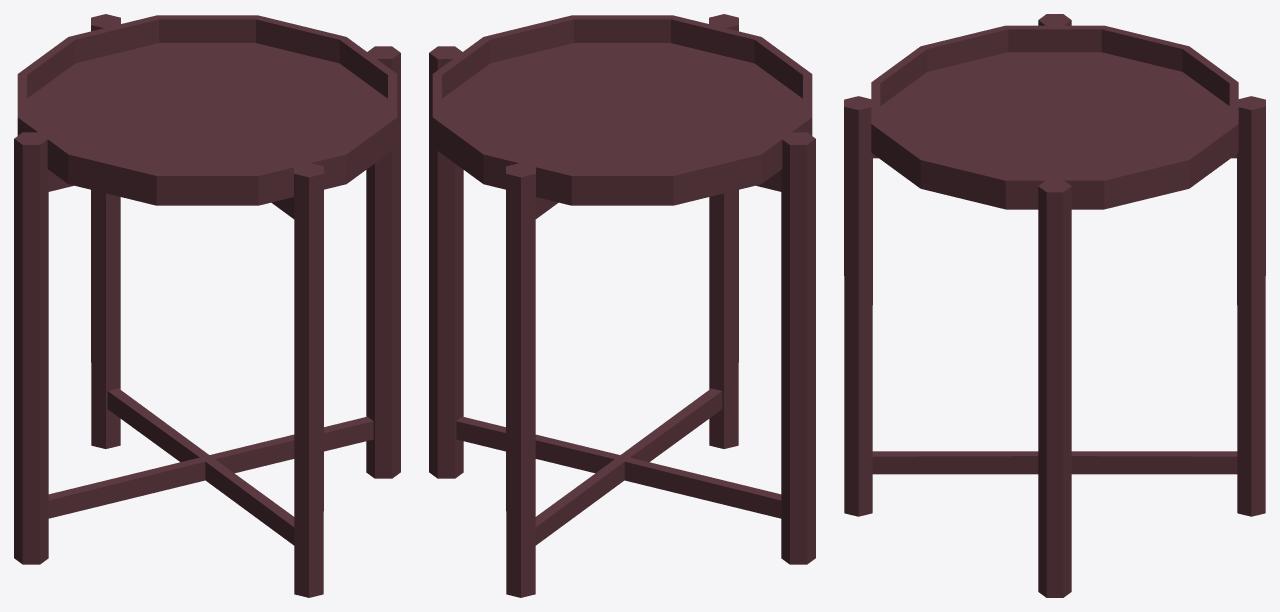
Rendered from tray-table.fbx.
3 renders of one model, left to right at view 1: azimuth 30°, elevation 25°; view 2: azimuth 150°, elevation 25°; view 3: azimuth 270°, elevation 25°, orthographic. The views are drawn at different scales.
Visible parts, largest first — view 1: tray-table; view 2: tray-table; view 3: tray-table.
Boxes of the visible parts, left/top/right/bottom form: tray-table: left=14, top=14, right=400, bottom=597; tray-table: left=429, top=14, right=815, bottom=597; tray-table: left=844, top=14, right=1265, bottom=597.
Size of the model in its own units: 0.4994 by 0.5311 by 0.4994.
